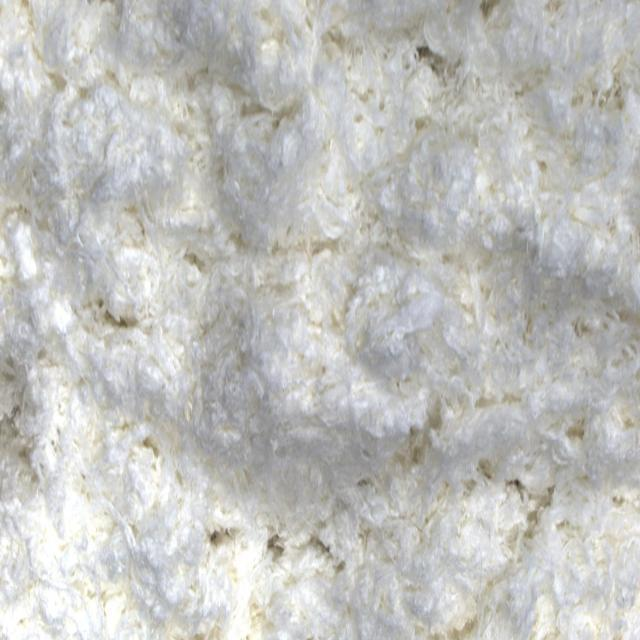dust: (416, 41, 437, 68)
